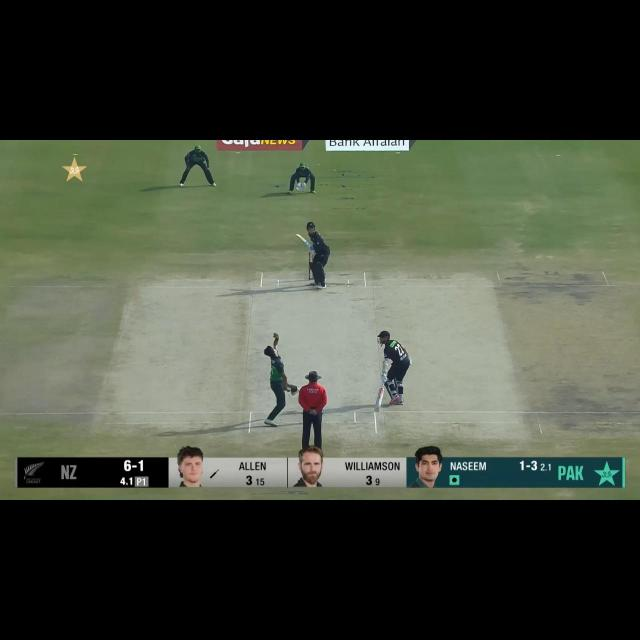bat: (374, 385, 384, 412), (294, 233, 310, 247)
toe: (374, 408, 379, 413), (294, 233, 299, 237)
